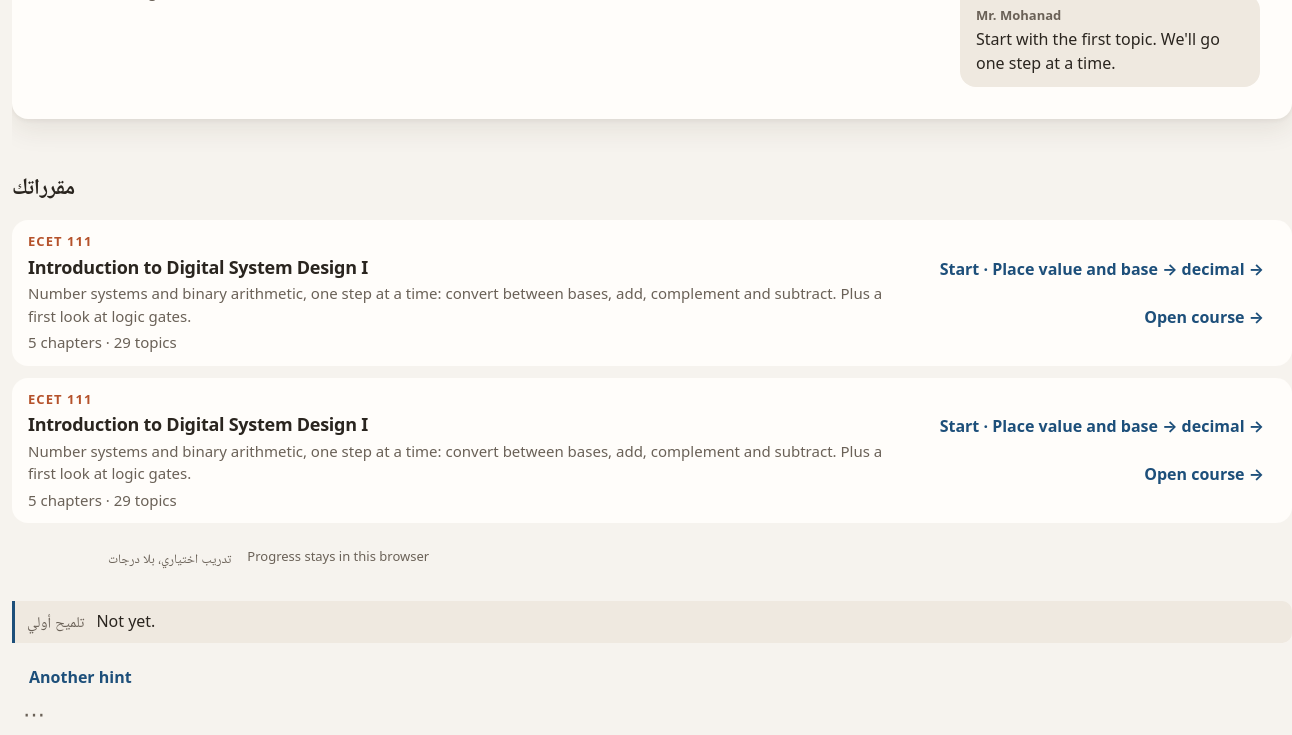
Test: UiText and the resolver's labels › the rest of the chrome reads its #702 keys: Home headings, the footer, the skip menu's destination and the hint panel (#705)
This screenshot has width=1292, height=735.
(page scrolled)
Check: the element "مقرراتك" is shown, box [12,167,1291,523]
Check: the text "تدريب اختياري، بلا درجات" is shown, box [108,549,231,567]
Step 1. Click the button named "More" → (34, 713), box [12,691,56,734]
(page scrolled)
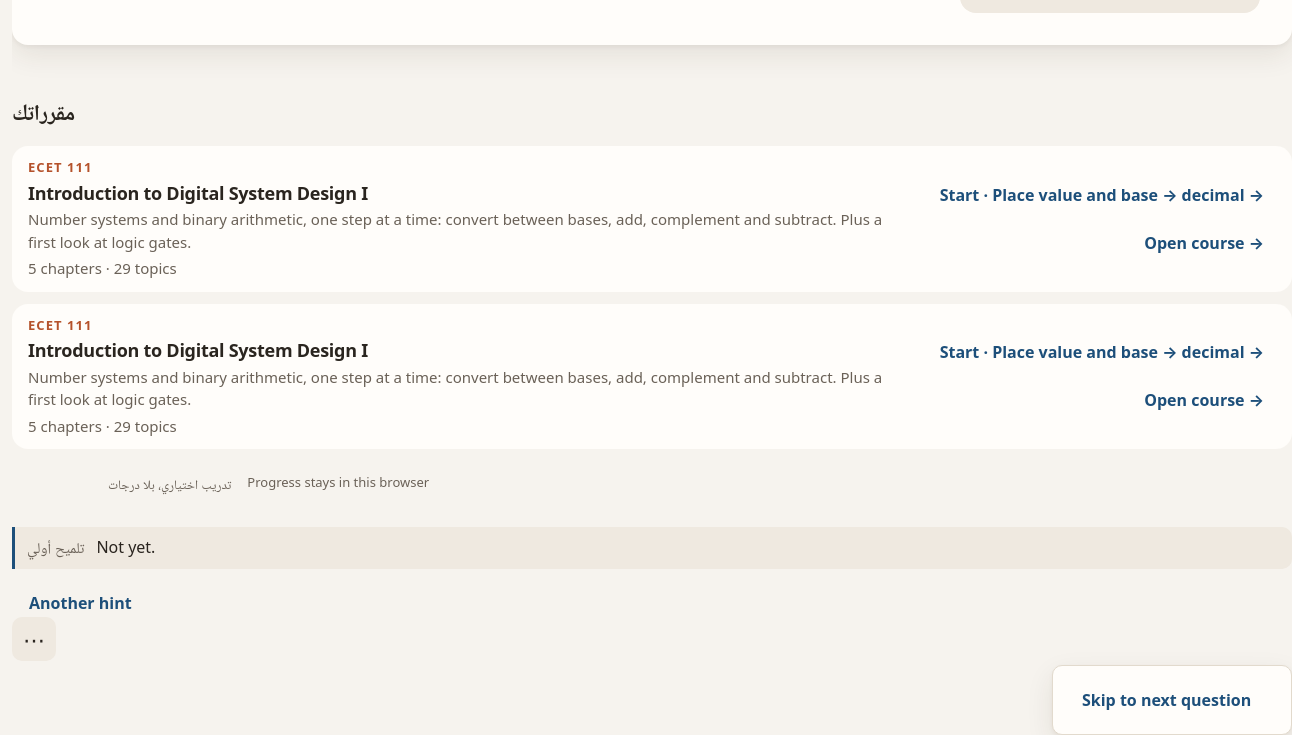
Step 2. Click the button "Skip to next question" → (1167, 700), box [1065,678,1268,722]
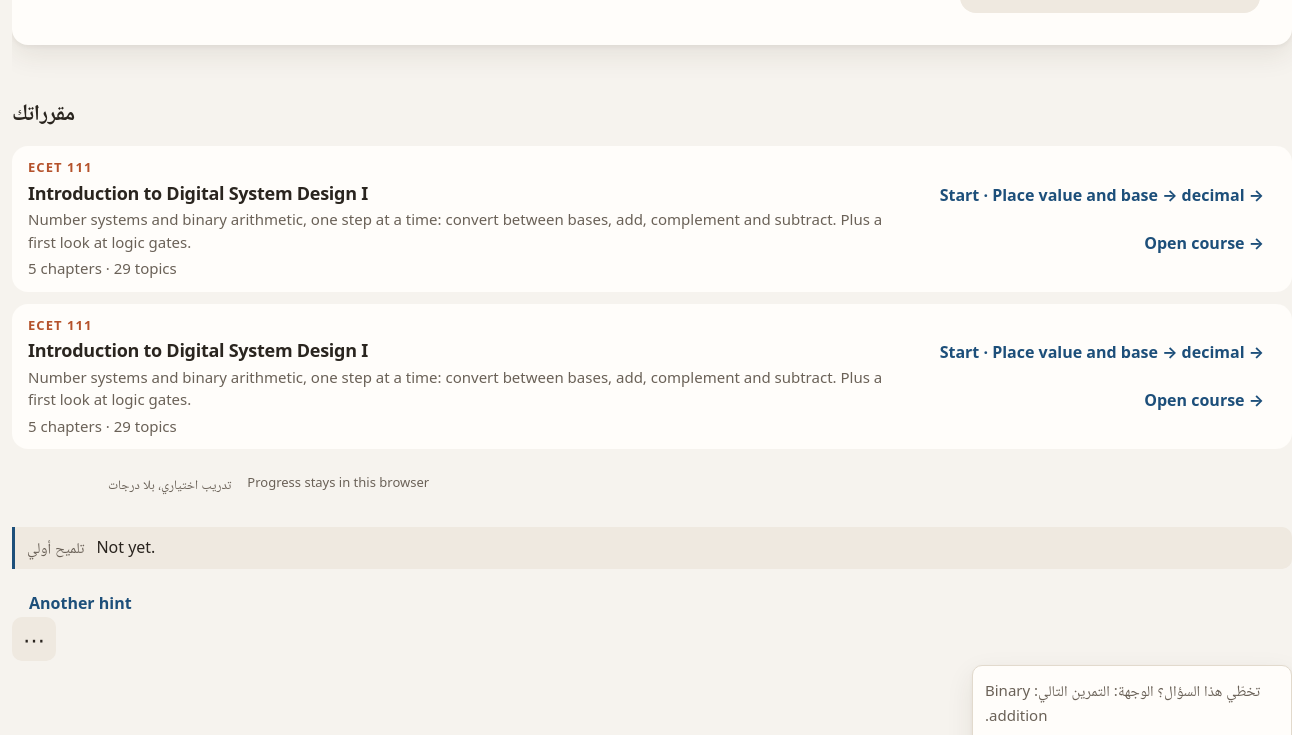
Check: the text "الوجهة: التمرين التالي: Binary addition" is shown, box [985,680,1260,726]
